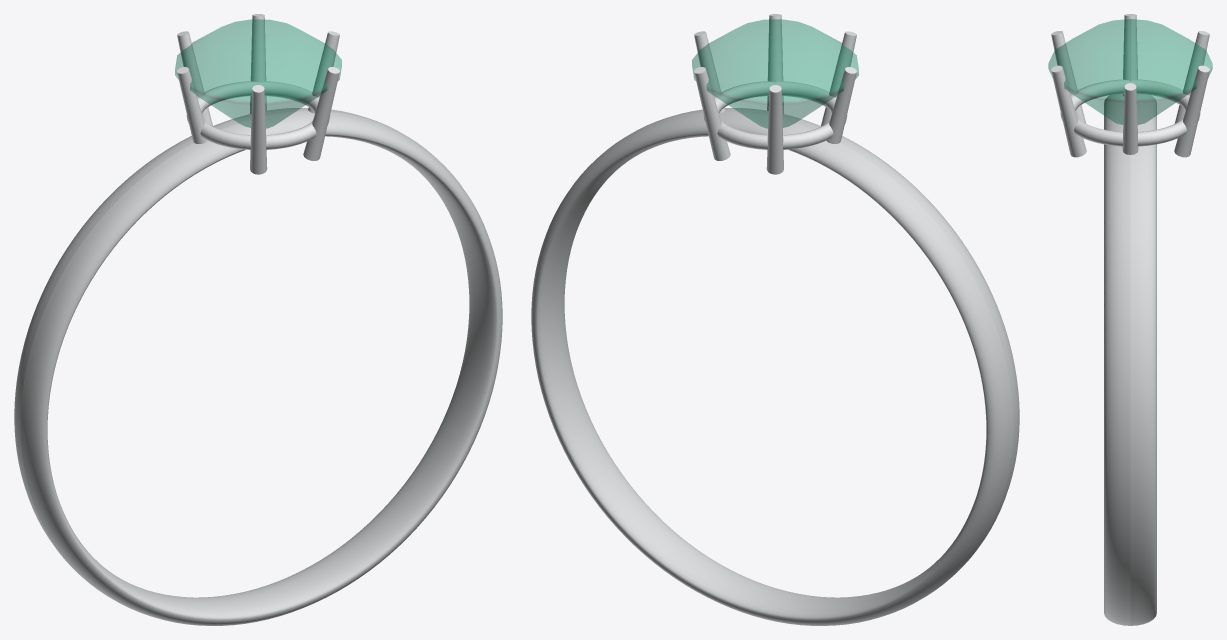
The model's file is hero-ring.glb.
3 views of the same model, side by side, from view 1: azimuth 30°, elevation 25°; view 2: azimuth 150°, elevation 25°; view 3: azimuth 270°, elevation 25° (orthographic). The views are drawn at different scales.
Size of the model in its own units: 2.22 by 2.57 by 0.68.
